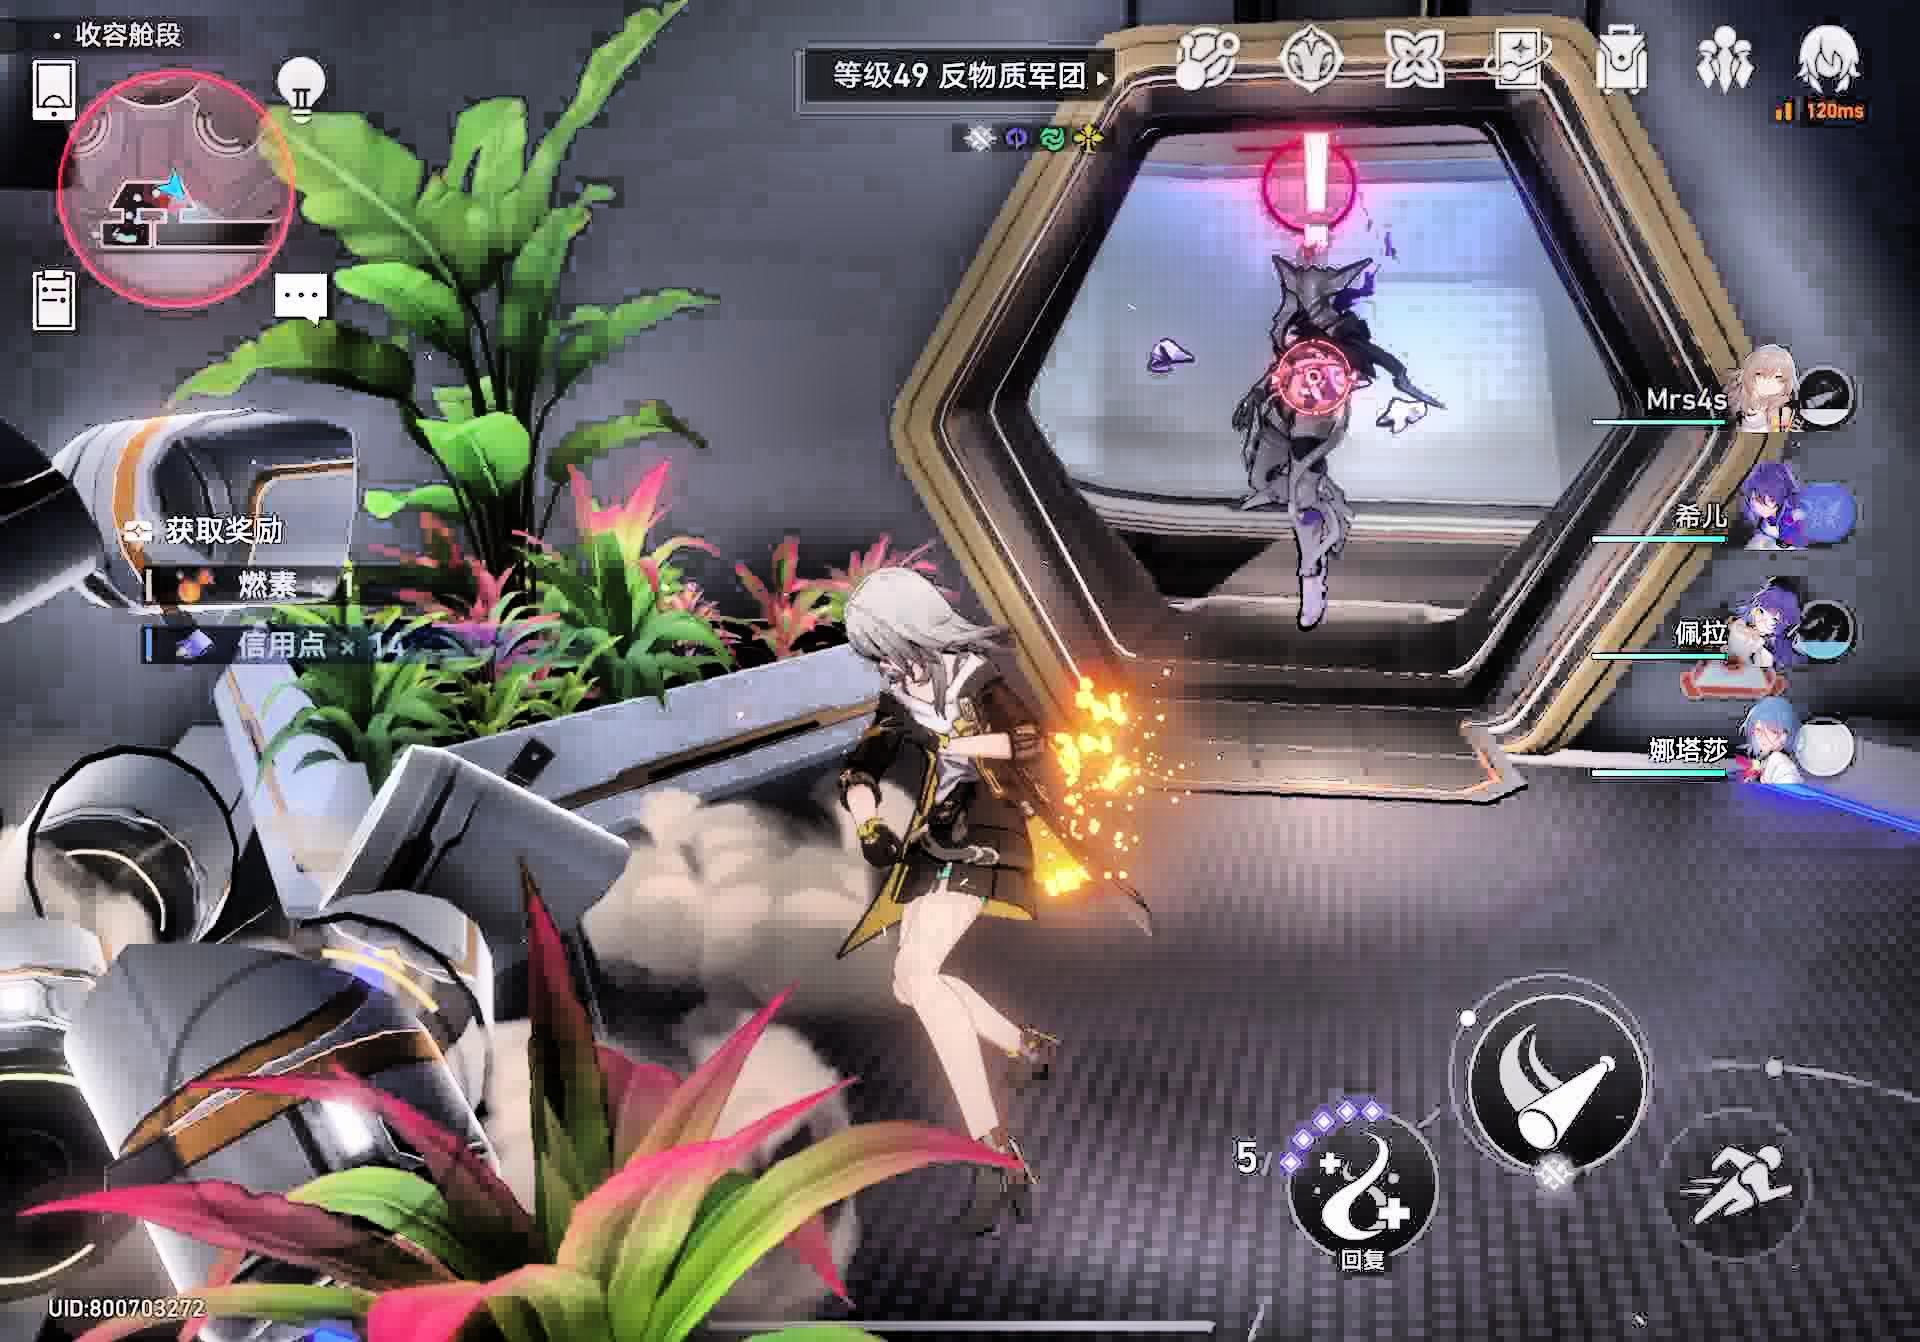Enemy: (1237, 258, 1427, 643)
Self: (805, 548, 1062, 1184)
